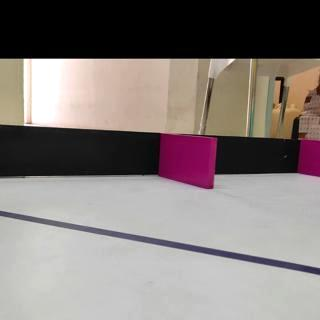xparking: (160, 134, 213, 183), (302, 141, 320, 171)
